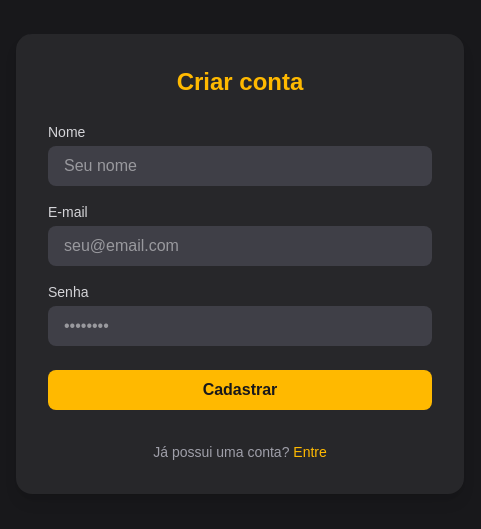
it: RF1 - Cadastro de Usuário (Frontend) › deve exibir mensagem de erro quando o e-mail já estiver cadastrado (409)
Type "João" into the field labelled "Nome" at (240, 166), box [48,146,432,186]
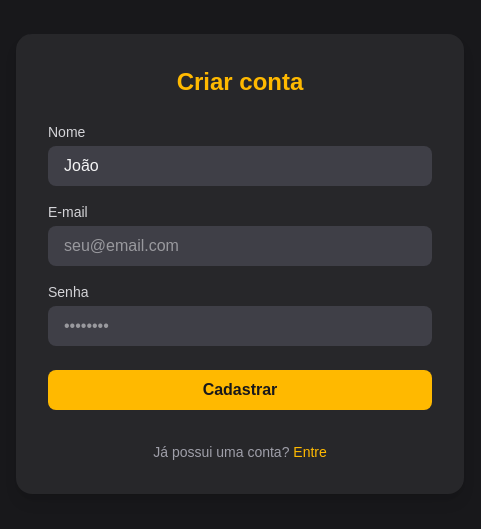
Type "joao@email.com" into the field labelled "E-mail" at (240, 246), box [48,226,432,266]
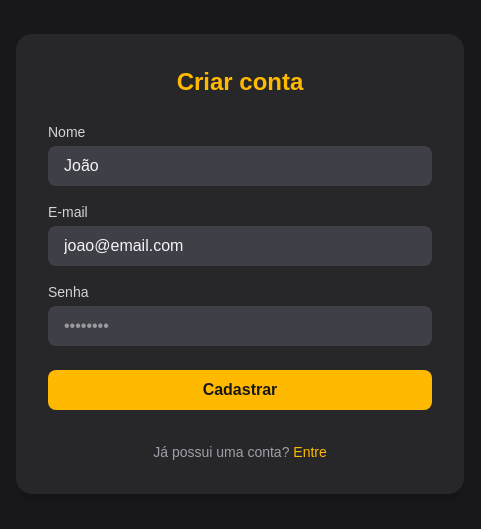
Type "senha123" into the password field labelled "Senha" at (240, 326), box [48,306,432,346]
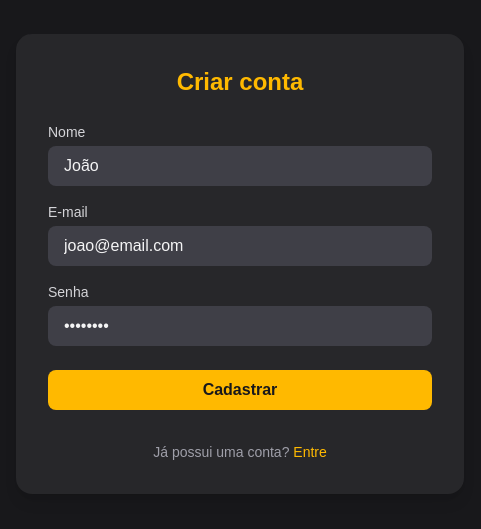
Click the button "Cadastrar" at (240, 390), box [48,370,432,410]
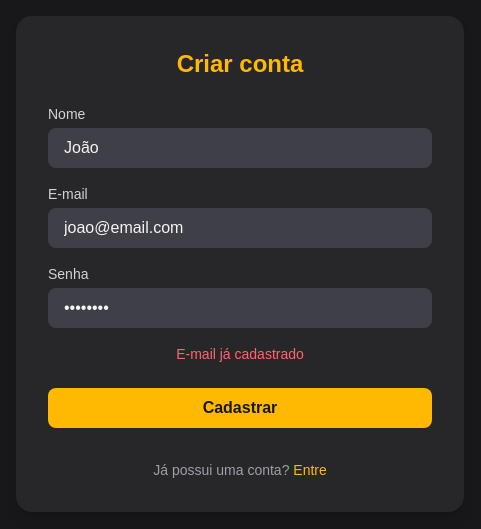
Expected: the text "E-mail já cadastrado" is shown, [176,346,304,362]
